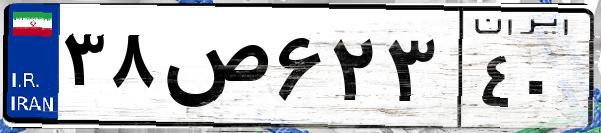0: (525, 38, 570, 115)
2: (330, 28, 385, 110)
3: (385, 28, 445, 110), (57, 26, 110, 100)
4: (475, 38, 525, 113)
6: (270, 28, 330, 110)
8: (110, 28, 158, 98)
ص: (158, 20, 270, 120)
